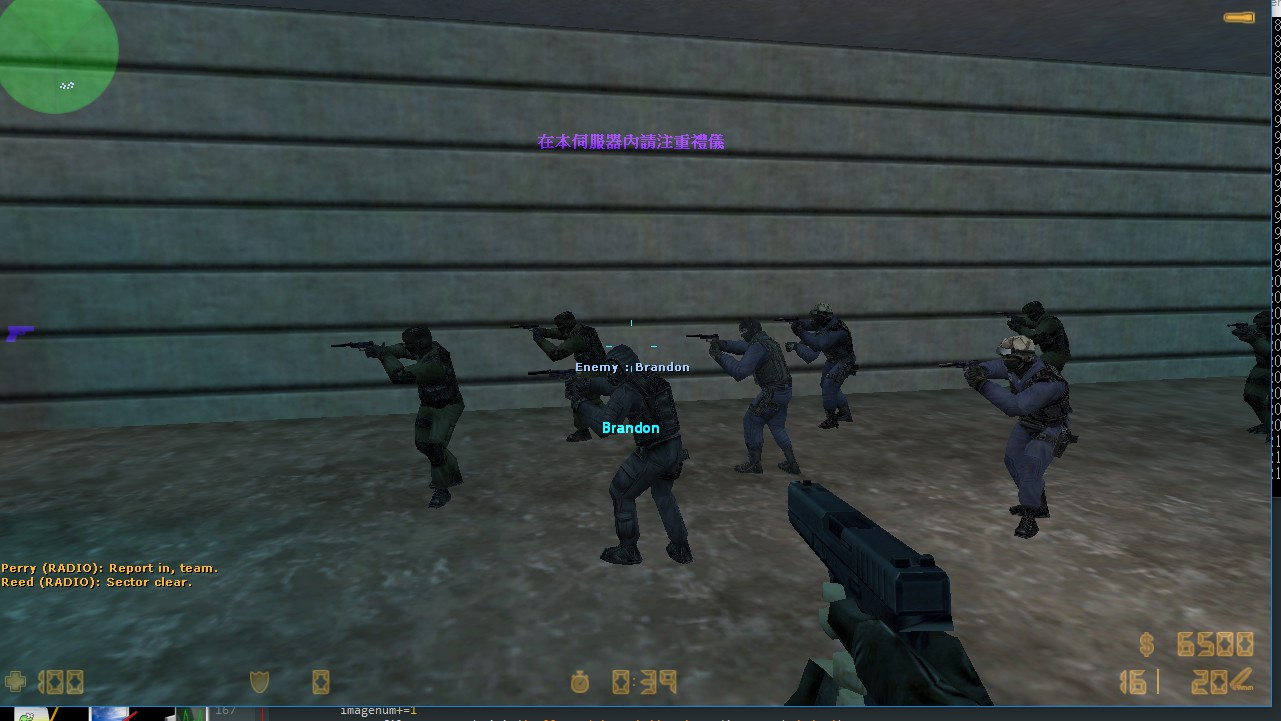person: (596, 344, 696, 569), (974, 338, 1068, 545), (374, 313, 465, 511), (529, 295, 607, 450), (726, 309, 795, 479), (799, 299, 860, 430), (1223, 306, 1269, 433), (1011, 296, 1070, 385)
